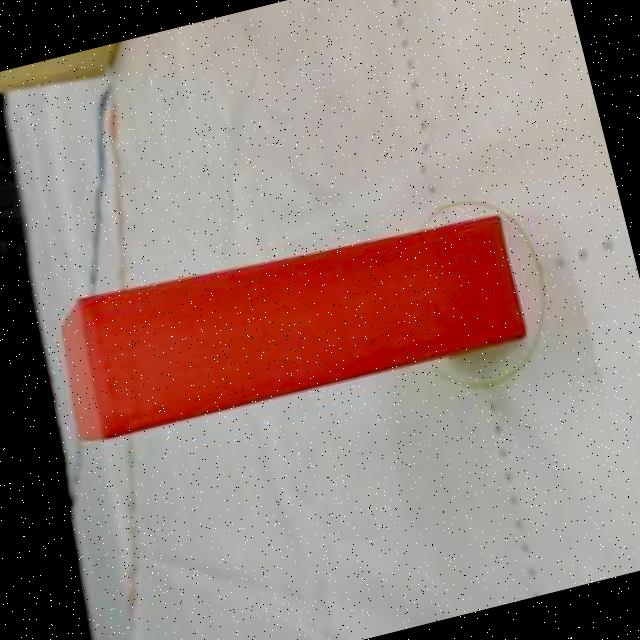redbox: (43, 194, 530, 445)
